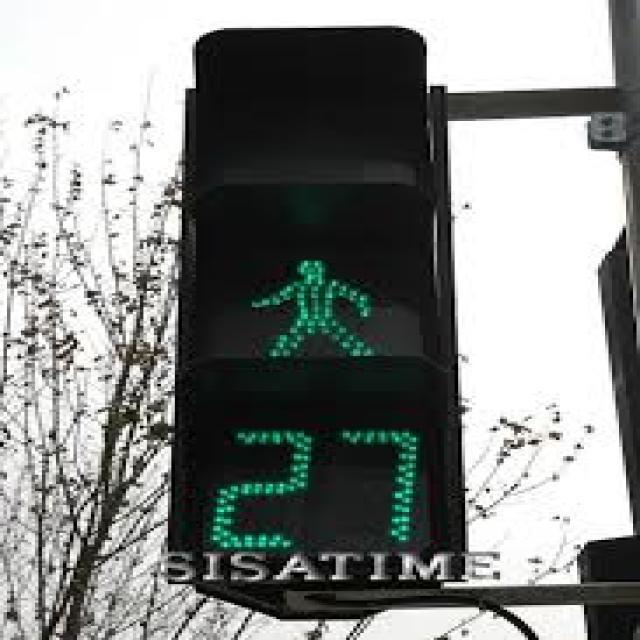green_light: (191, 232, 426, 552)
